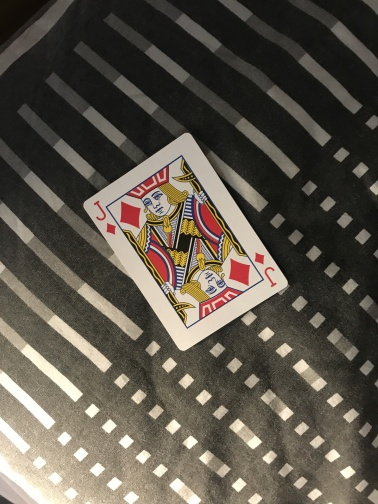jack: (82, 131, 289, 353)
